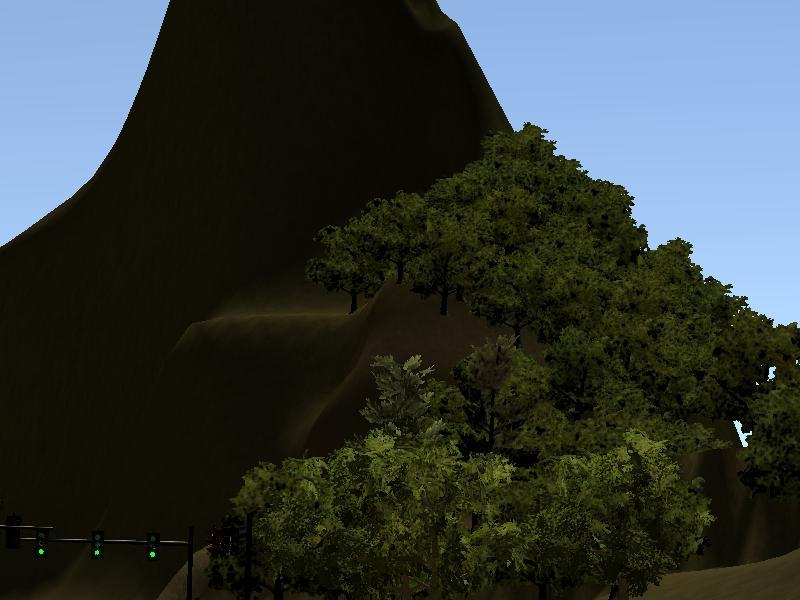Green: (86, 525, 103, 559), (34, 527, 49, 564), (144, 528, 159, 560)
